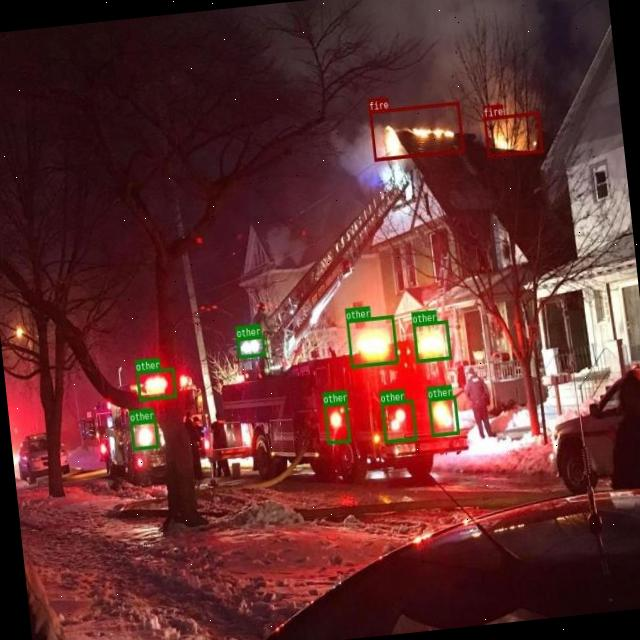fire: (368, 101, 464, 160), (483, 111, 542, 158)
